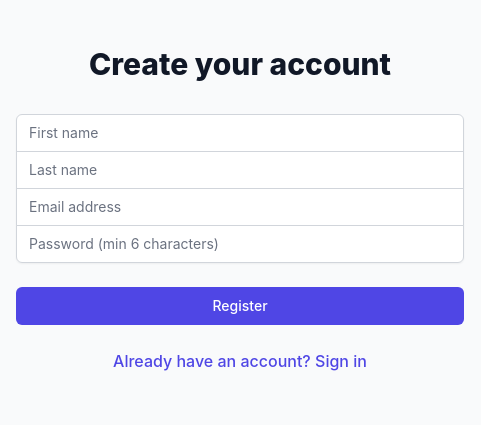
it: Register › should show error when registration fails
Type "John" into the field with placeholder "First name" at x=240, y=132, box [16,114,464,152]
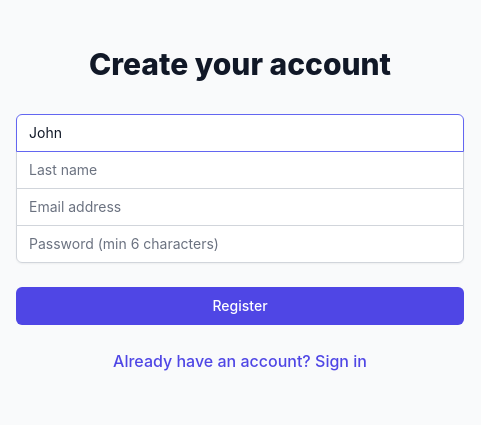
Type "Doe" into the field with placeholder "Last name" at x=240, y=170, box [16,150,464,188]
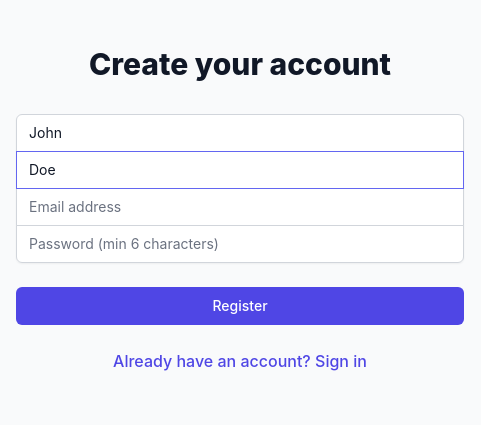
Type "john@example.com" into the field with placeholder "Email address" at x=240, y=206, box [16,188,464,226]
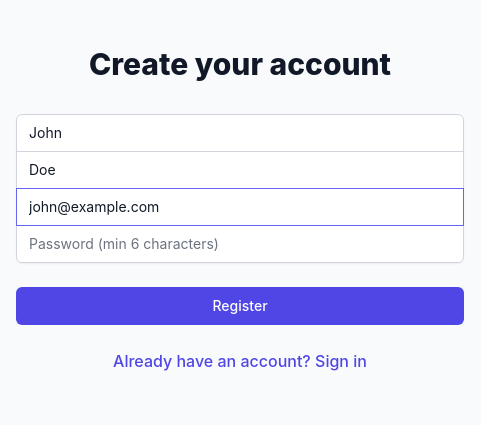
Type "password1" into the password field with placeholder "Password (min 6 characters)" at x=240, y=244, box [16,224,464,262]
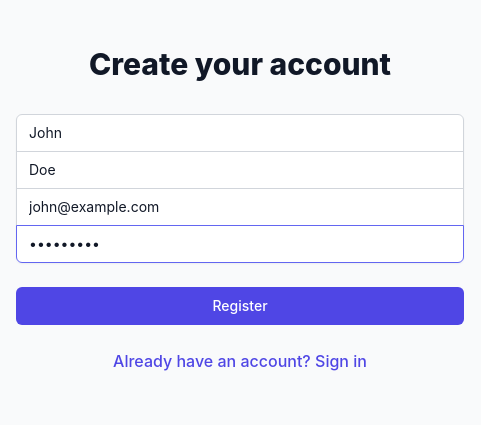
Click the button "Register" at x=240, y=306, box [16,286,464,324]
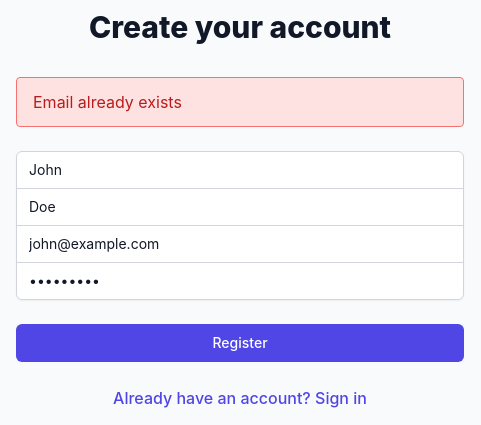
Check: the text "Email already exists" is shown, box [16,76,464,126]
